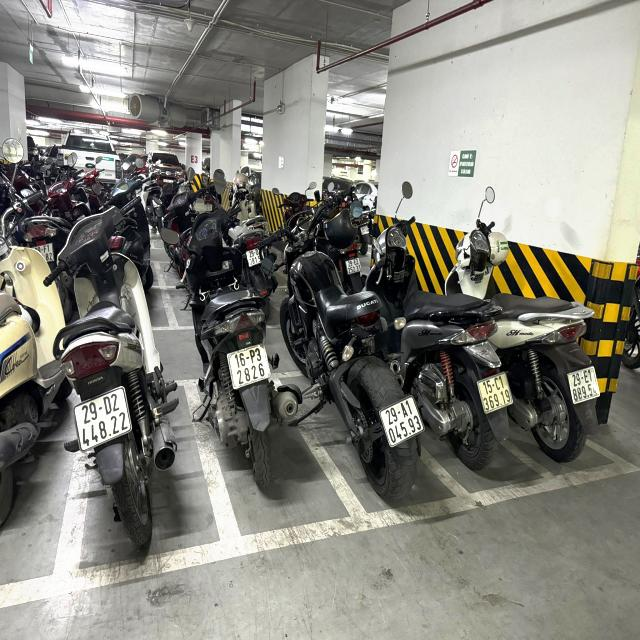license_plate: (74, 386, 134, 455), (380, 395, 427, 449), (225, 345, 273, 391), (477, 370, 518, 416), (570, 363, 605, 409)
